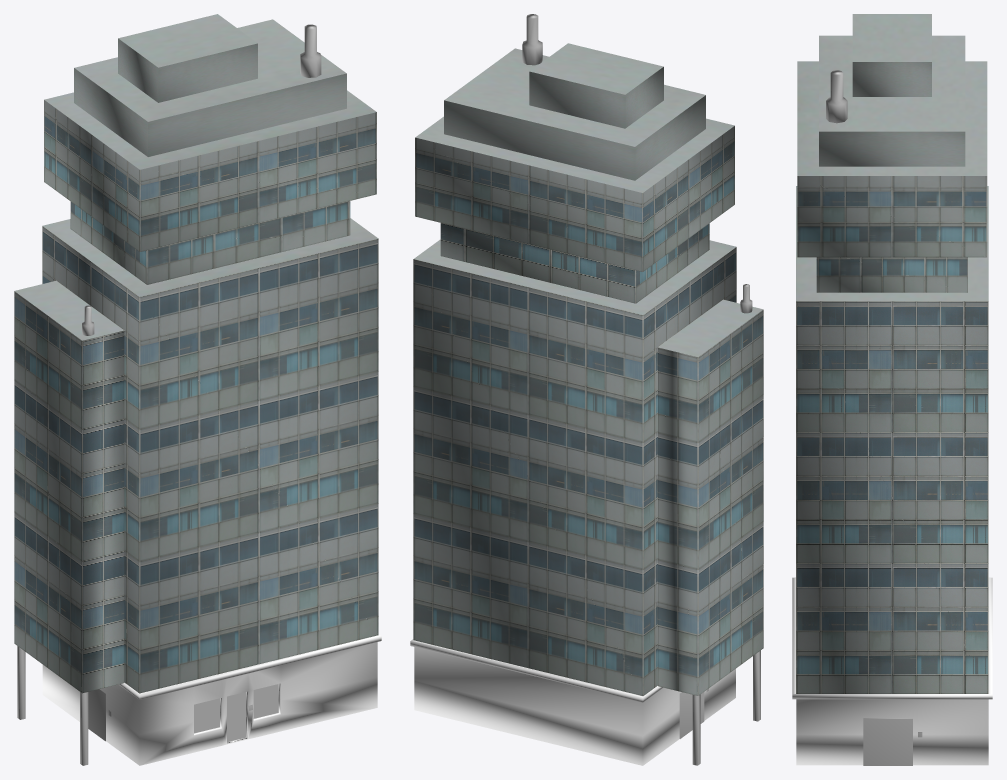
Rendered from c2_tower2_lod.fbx.
The picture shows the model from 3 angles, left to right: view 1: azimuth 30°, elevation 25°; view 2: azimuth 150°, elevation 25°; view 3: azimuth 270°, elevation 25°; orthographic projection. The views are drawn at different scales.
Parts seen in each view (by area): view 1: mesh; view 2: mesh; view 3: mesh.
Boxes of the visible parts, bbox=[...] form: mesh: bbox=[14, 14, 381, 765]; mesh: bbox=[410, 14, 763, 765]; mesh: bbox=[792, 14, 992, 765].
Size of the model in its own units: 1536 by 3517 by 950.
